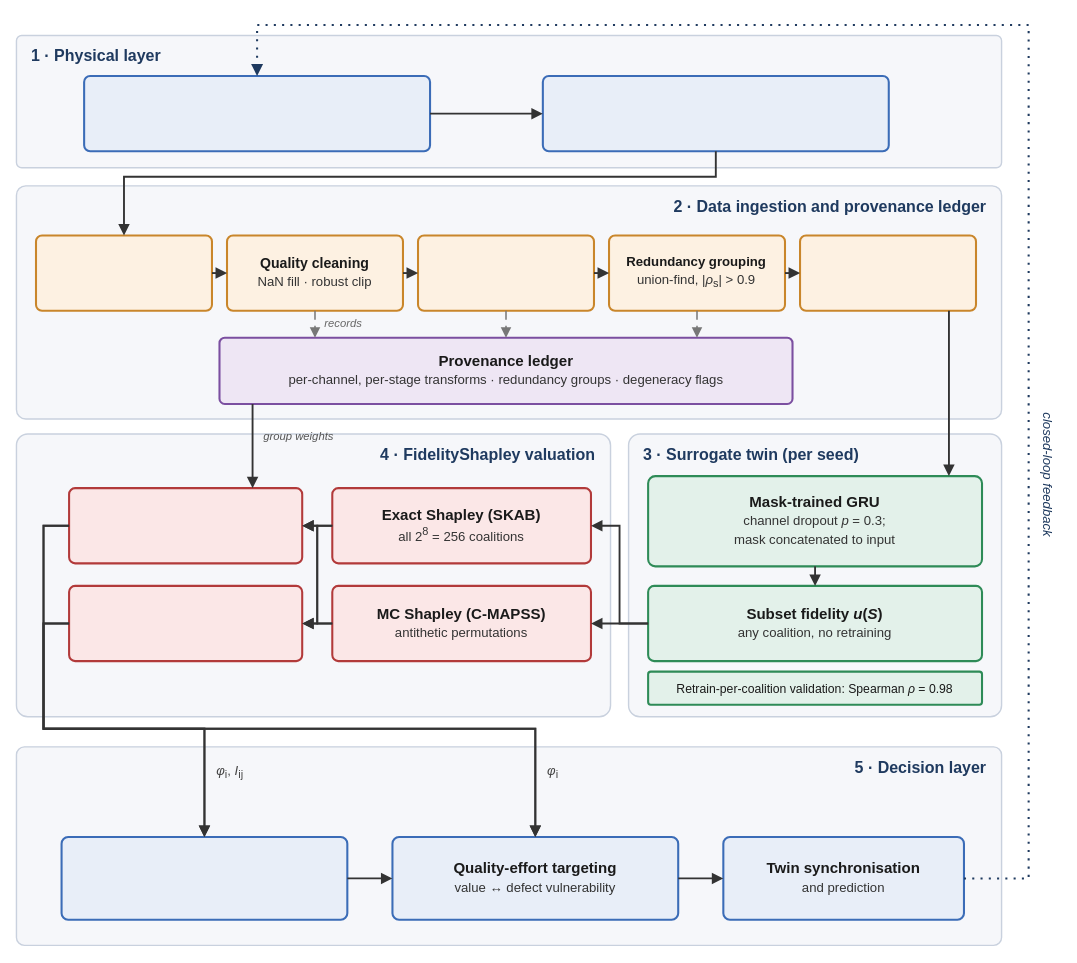
This 1077x963 diagram has some shape labels left out. Each missing label, with the centre of its shape:
"Fidelity–bandwidth selection top- k channels" belongs at point (204, 878).
"Fusion & windowing z -norm (train stats)" belongs at point (888, 272).
"Interaction index I ij applicability diagnostic" belongs at point (185, 623).
"Physical asset water circuit (SKAB) / turbofan (C-MAPSS)" belongs at point (257, 113).
"Raw multi-channel time series" belongs at point (123, 272).
"Redundancy redistribution ledger group weights" belongs at point (185, 525).
"Resampling regular grid" belongs at point (506, 272).
"Sensor array n heterogeneous channels" belongs at point (715, 113).
